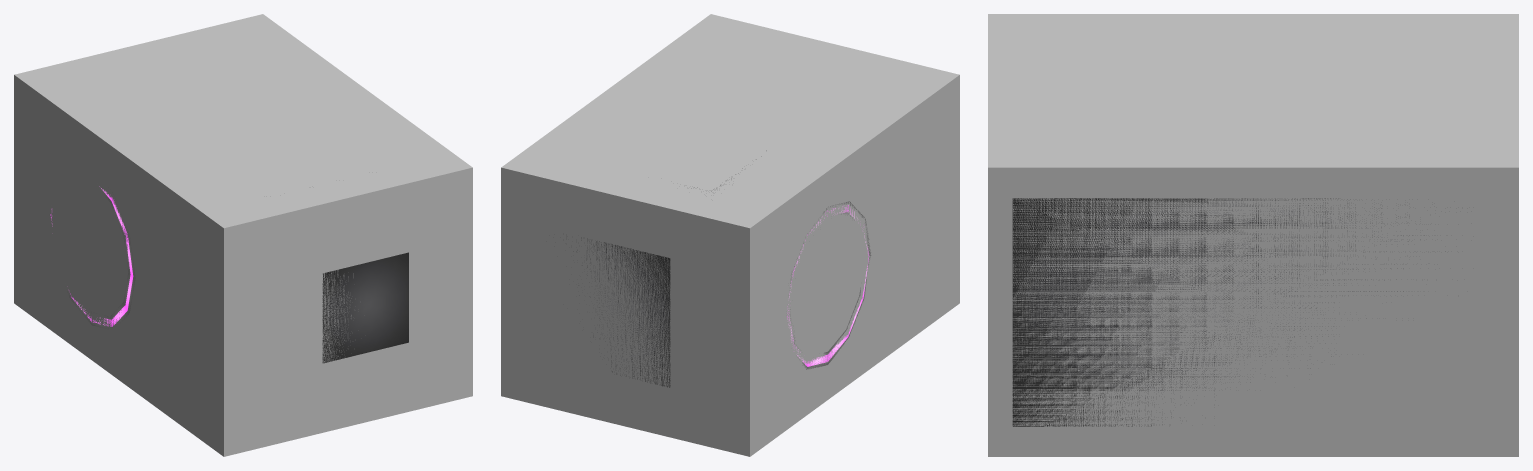
The model's file is SM_ACUnit_02.fbx.
The picture shows the model from 3 angles, left to right: view 1: azimuth 30°, elevation 25°; view 2: azimuth 150°, elevation 25°; view 3: azimuth 270°, elevation 25°; orthographic projection. The views are drawn at different scales.
Visible parts, largest first — view 1: SM_ACUnit_02_ConvexHulls, SM_ACUnit_02; view 2: SM_ACUnit_02_ConvexHulls, SM_ACUnit_02; view 3: SM_ACUnit_02_ConvexHulls, SM_ACUnit_02.
Boxes of the visible parts, left/top/right/bottom form: SM_ACUnit_02_ConvexHulls: left=14, top=14, right=472, bottom=456; SM_ACUnit_02: left=49, top=186, right=408, bottom=363; SM_ACUnit_02_ConvexHulls: left=501, top=14, right=959, bottom=456; SM_ACUnit_02: left=573, top=150, right=871, bottom=387; SM_ACUnit_02_ConvexHulls: left=988, top=14, right=1518, bottom=456; SM_ACUnit_02: left=1012, top=198, right=1445, bottom=426.
Bounding box in the file's own units: 87.75 × 128 × 77.
2 materials, 1 textured.
